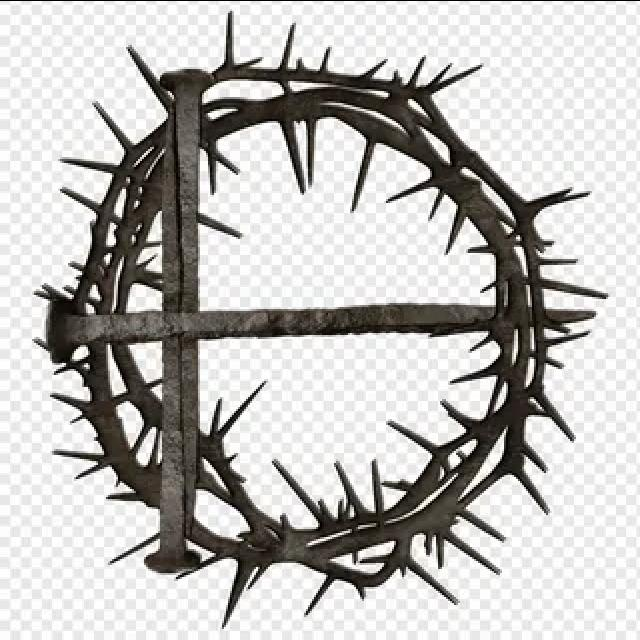crown: (56, 71, 576, 580)
